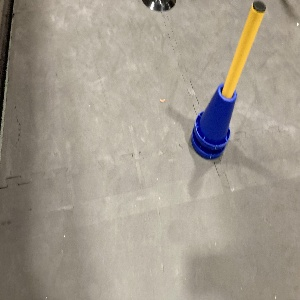Blue_2: (188, 76, 237, 165)
